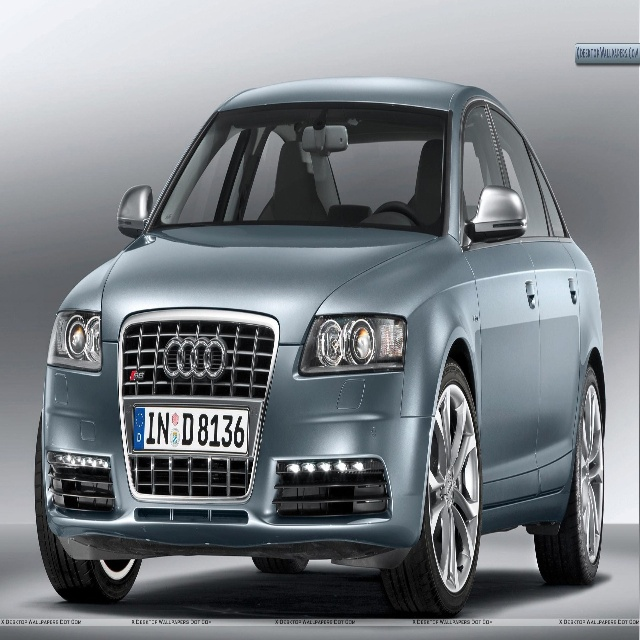Car: (34, 75, 606, 618)
